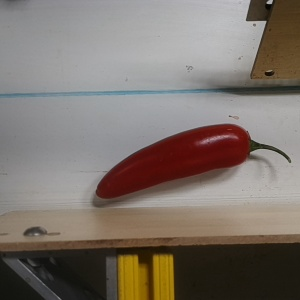Cut Point: (234, 124, 259, 165)
